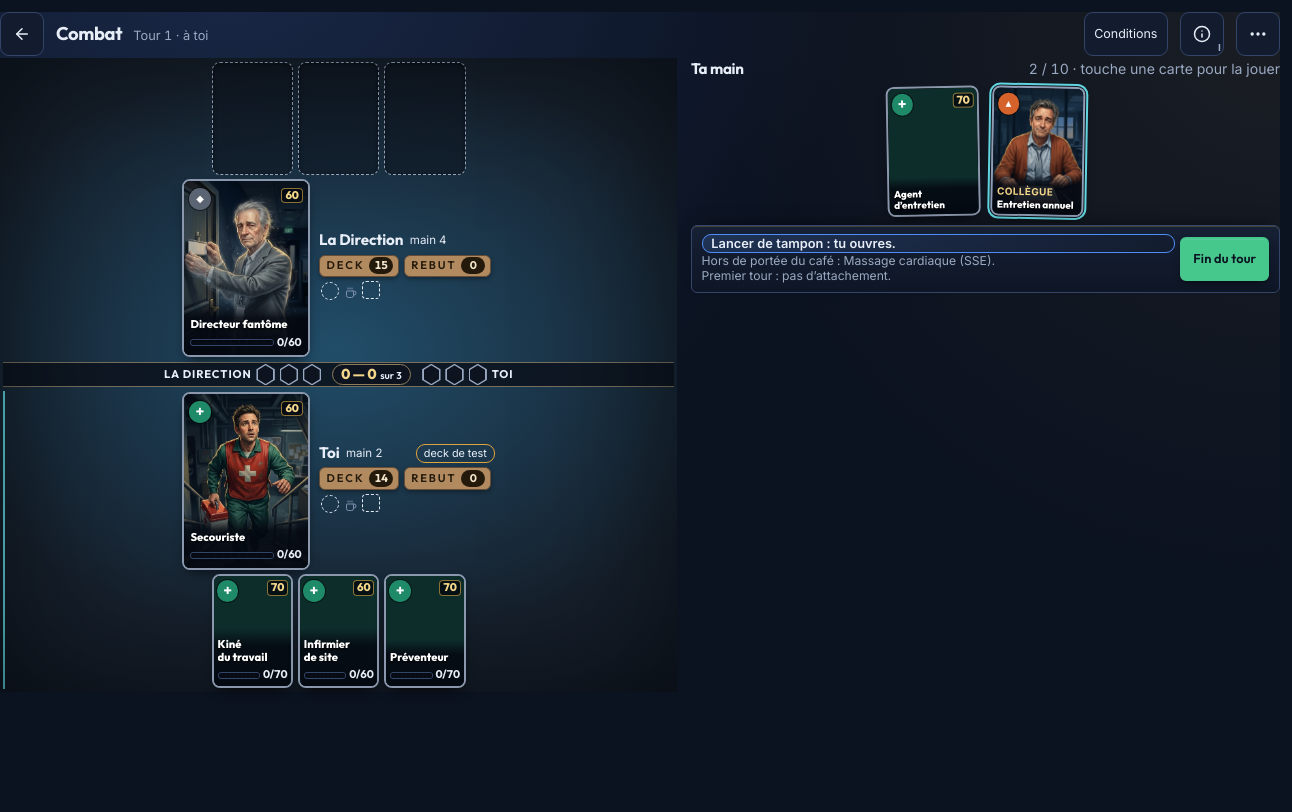
Battle — écran de combat › affiche le Journal dans le menu
Click the button named "Menu du combat" at (1258, 34), box left=1236, top=12, right=1280, bottom=56
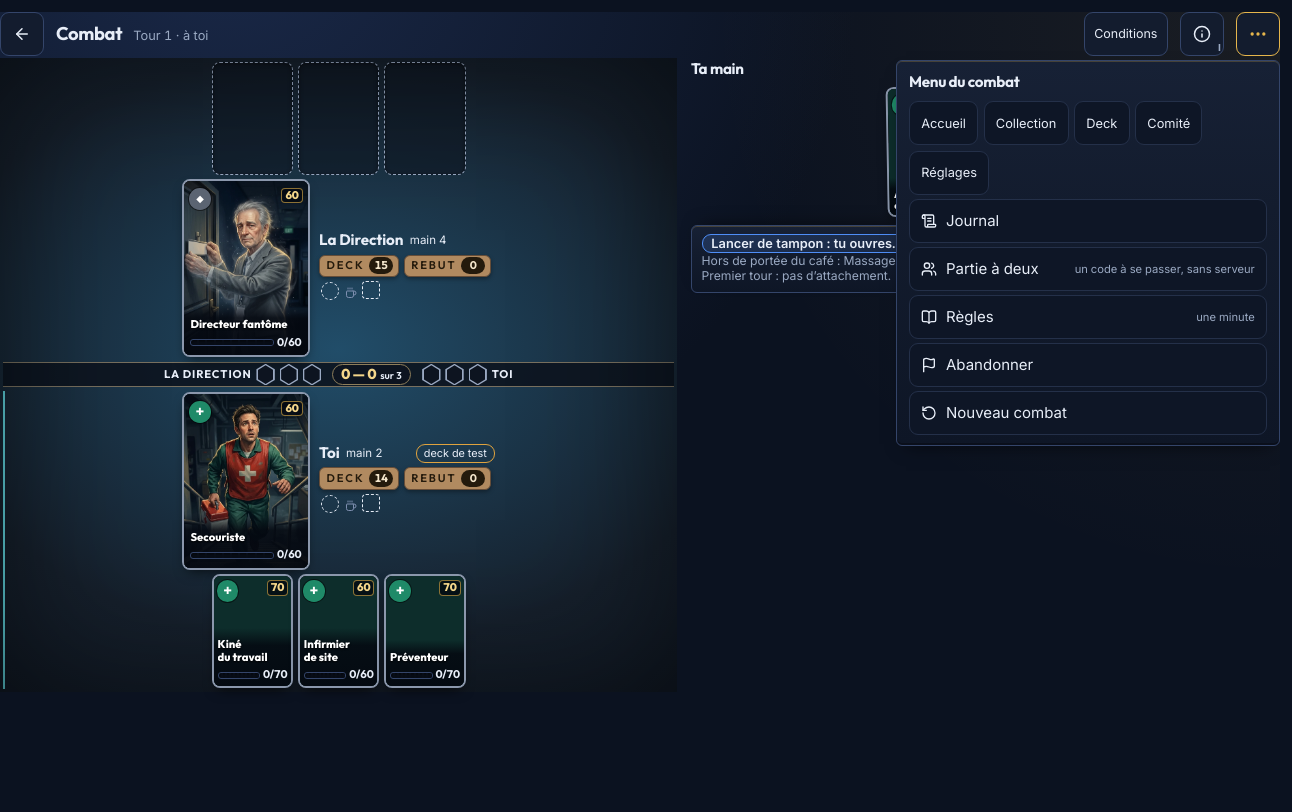
Click the button "Journal" at (973, 220), box left=909, top=199, right=1267, bottom=243
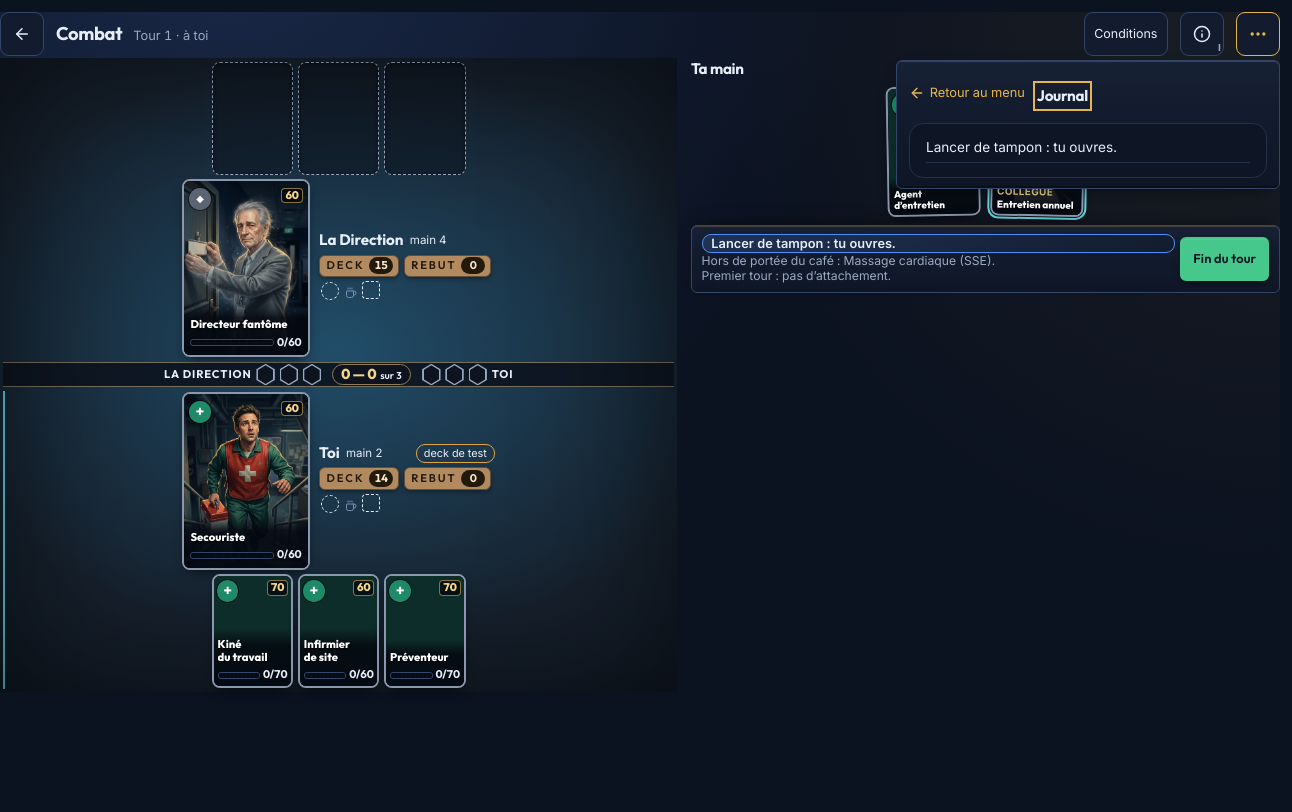
Check: the heading "Journal" is shown, box left=1037, top=85, right=1088, bottom=107
Check: the list item "Lancer de tampon : tu ouvres." is shown, box left=926, top=137, right=1250, bottom=163
